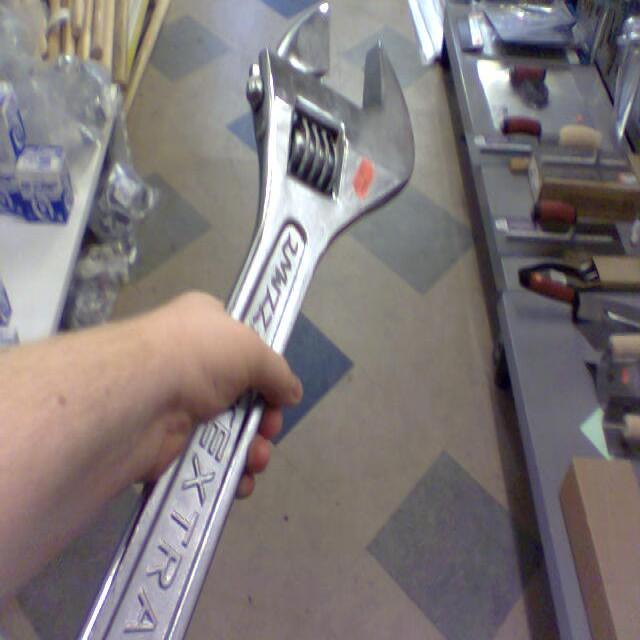wrench: (90, 2, 420, 640)
